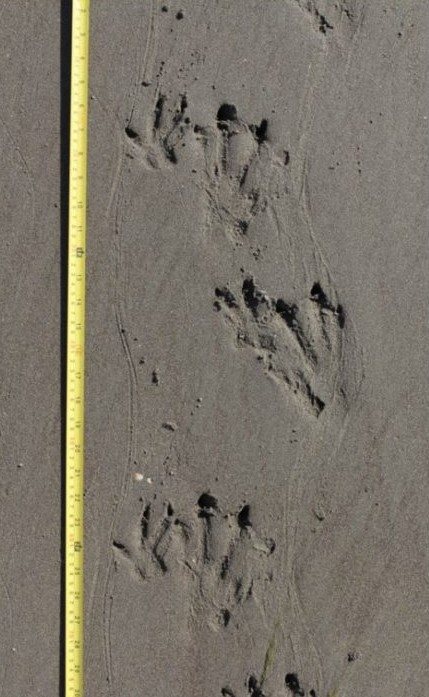beaver: (215, 278, 355, 415), (189, 99, 279, 252), (175, 492, 259, 635), (111, 505, 177, 593), (121, 90, 187, 174)
